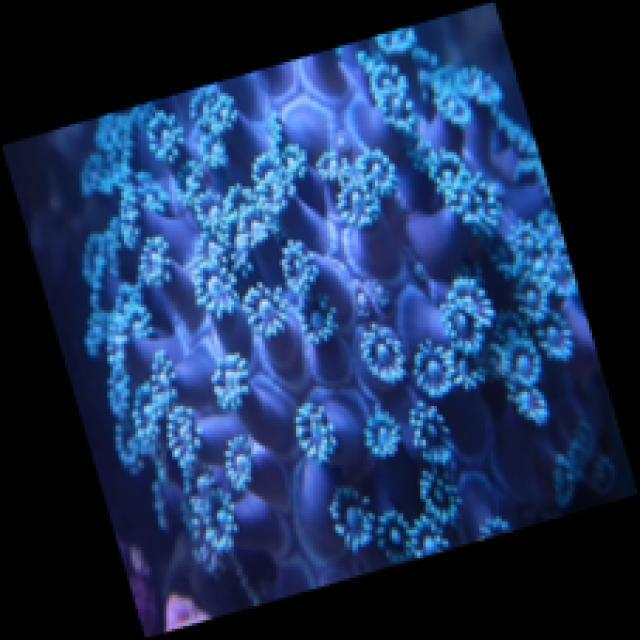Healthy: (78, 26, 588, 580)
